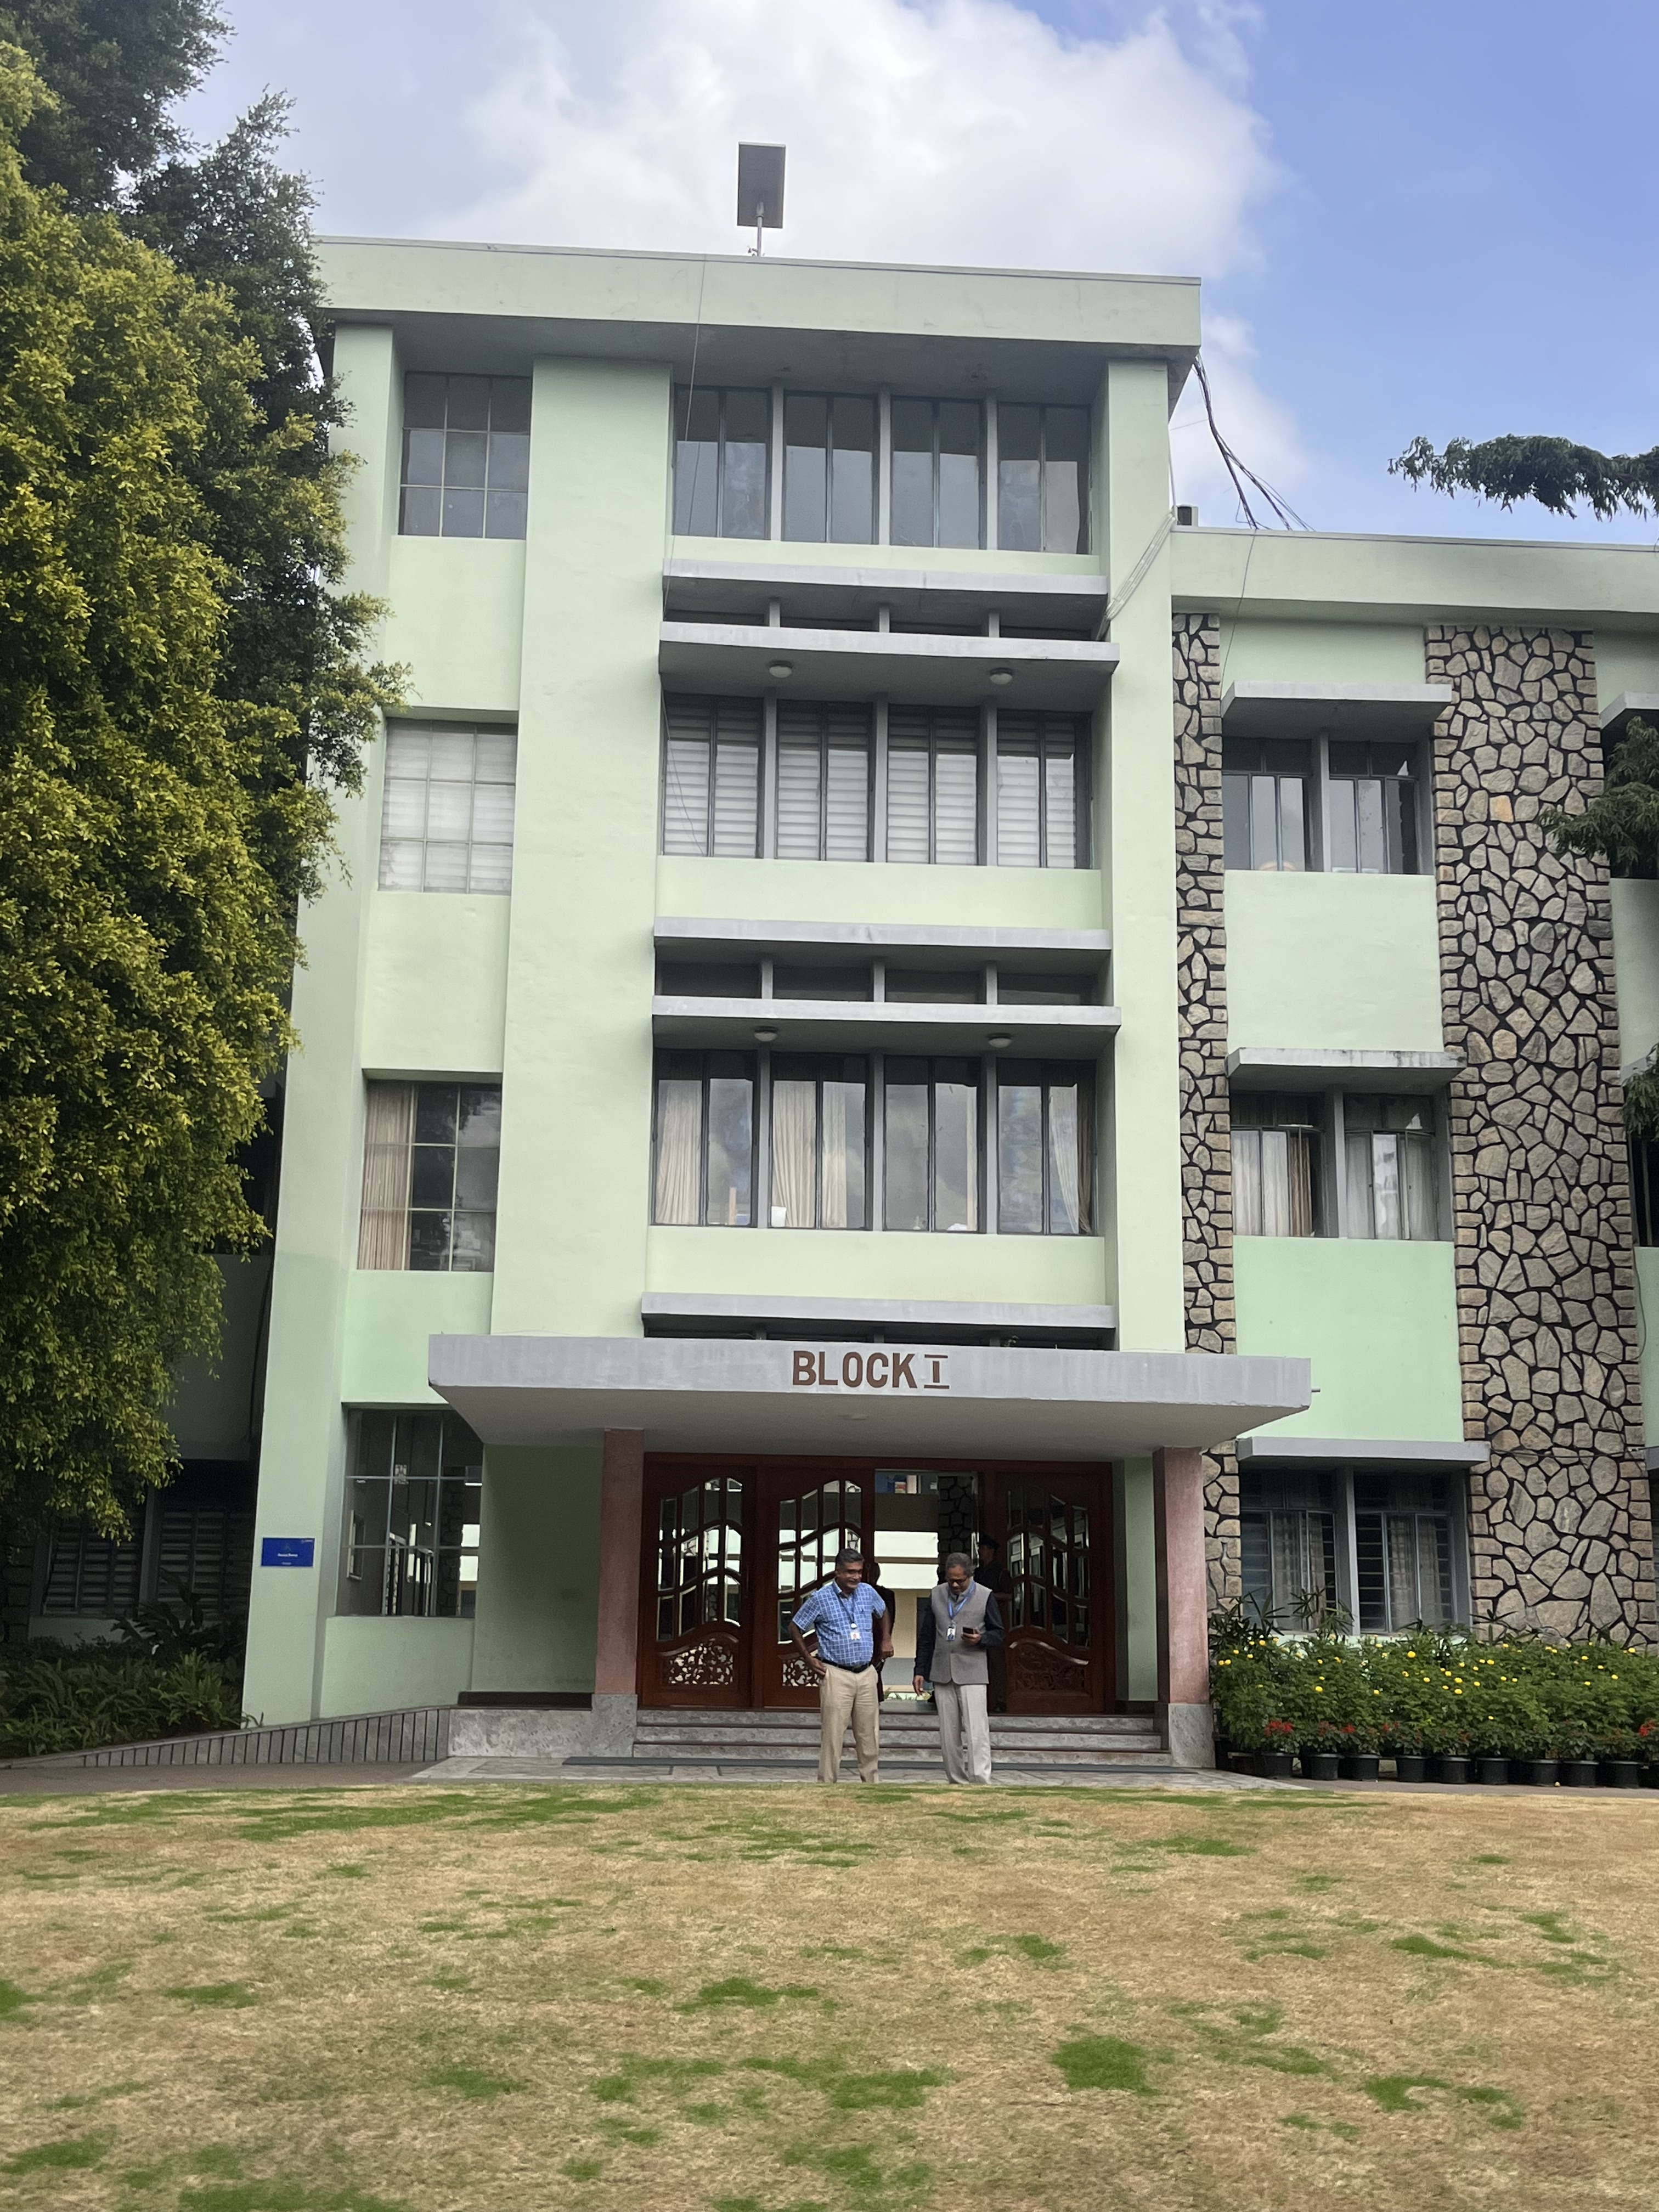Block 1: (305, 204, 1659, 1752)
